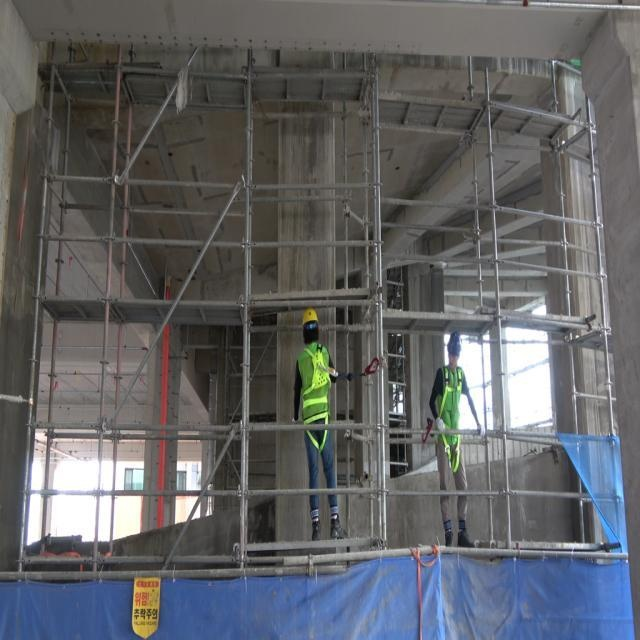Arnes_seguridad: (303, 346, 329, 452), (442, 367, 462, 472)
